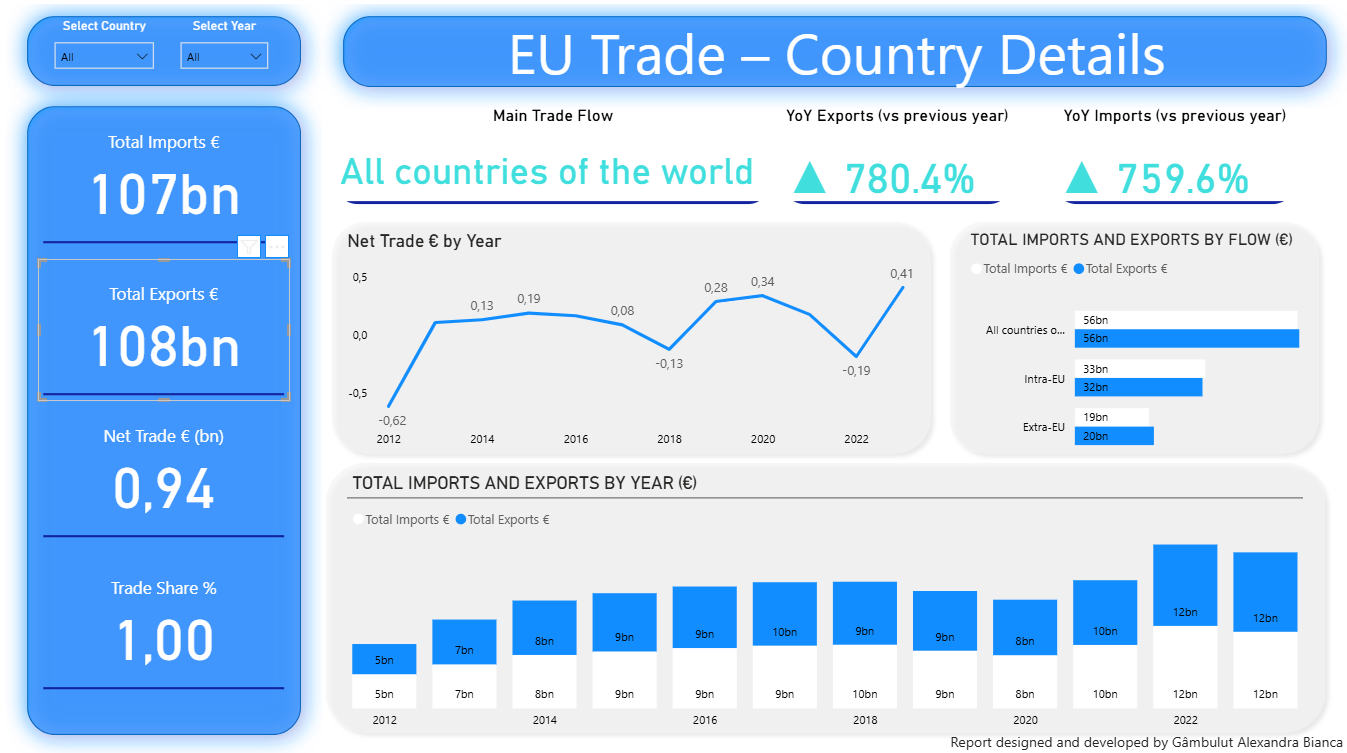

The dashboard page shown, as its layout file describes it:
{"tool":"powerbi","page":{"name":"Country Detail","canvas":[1280,720],"ordinal":1},"visuals":[{"type":"shape","box":[308.7,205.8,584.9,237.3],"z":0},{"type":"shape","box":[893.6,205.8,367.5,237.3],"z":1000},{"type":"shape","box":[302.7,433.5,964.3,273.5],"z":2000},{"type":"shape","box":[9.5,85.1,299.3,635.3],"z":3000},{"type":"shape","box":[9.5,0,299.3,106.1],"z":4000},{"type":"shape","box":[308.7,0,971.3,107.1],"z":5000},{"type":"slicer","title":"Select Country","fields":{"Values":["DimCountry.Country"]},"box":[45.2,22.1,114.5,64.1],"z":6000},{"type":"slicer","title":"Select Year","fields":{"Values":["DimYear.DimYear"]},"box":[164.9,22.1,102.9,64.1],"z":7000},{"type":"textbox","box":[350.7,11.6,891.5,81.9],"z":8000},{"type":"cardVisual","title":"YoY Imports % (vs previous year)","fields":{"Data":["Fact_ImportsExports.Total Imports €"]},"box":[39.9,106.1,238.4,134.4],"z":9000},{"type":"cardVisual","title":"YoY Imports % (vs previous year)","fields":{"Data":["Fact_ImportsExports.Total Exports €"]},"box":[39.9,249.9,238.4,134.4],"z":10000},{"type":"cardVisual","title":"YoY Imports (vs previous year)","fields":{"Data":["Fact_ImportsExports.YoY Imports % Display"]},"box":[989.1,104,253.1,99.8],"z":11000},{"type":"cardVisual","title":"YoY Exports (vs previous year)","fields":{"Data":["Fact_ImportsExports.YoY Exports % Display"]},"box":[731.9,104,242.6,99.8],"z":12000},{"type":"cardVisual","title":"YoY Imports % (vs previous year)","fields":{"Data":["Fact_ImportsExports.Net Trade € (bn)"]},"box":[39.9,384.3,238.4,134.4],"z":13000},{"type":"cardVisual","title":"YoY Imports % (vs previous year)","fields":{"Data":["Fact_ImportsExports.Trade Share %"]},"box":[39.9,528.2,238.4,134.4],"z":14000},{"type":"columnChart","title":"TOTAL IMPORTS AND EXPORTS BY YEAR (€)","fields":{"Y":["Fact_ImportsExports.Total Imports €","Fact_ImportsExports.Total Exports €"],"Category":["DimYear.DimYear"]},"box":[331.9,451.9,904.9,251.9],"z":15000},{"type":"clusteredBarChart","title":"TOTAL IMPORTS AND EXPORTS BY FLOW (€)","fields":{"Category":["Fact_ImportsExports.Flow"],"Y":["Fact_ImportsExports.Total Imports €","Fact_ImportsExports.Total Exports €"]},"box":[917.7,221.6,362.3,230],"z":16000},{"type":"lineChart","fields":{"Y":["Fact_ImportsExports.Net Trade € (bn)"],"Category":["DimYear.DimYear"]},"box":[327.6,222.6,548.1,216.3],"z":17000},{"type":"cardVisual","title":"Main Trade Flow","fields":{"Data":["Fact_ImportsExports.Main Trade Flow"]},"box":[308.7,104,437.9,99.8],"z":18000},{"type":"textbox","box":[843.2,693.4,436.8,26.6],"z":18001}]}

Visuals, with their boxes in screenshot pixels (x1, y1, x2, y2), scaled from the page's 1280x720 canvas onto the 1347x753 screenshot:
shape: (left=325, top=215, right=940, bottom=463)
shape: (left=940, top=215, right=1327, bottom=463)
shape: (left=319, top=453, right=1333, bottom=739)
shape: (left=10, top=89, right=325, bottom=752)
shape: (left=10, top=0, right=325, bottom=111)
shape: (left=325, top=0, right=1346, bottom=112)
"Select Country" slicer: (left=48, top=23, right=168, bottom=90)
"Select Year" slicer: (left=174, top=23, right=282, bottom=90)
textbox: (left=369, top=12, right=1307, bottom=98)
"YoY Imports % (vs previous year)" cardVisual: (left=42, top=111, right=293, bottom=252)
"YoY Imports % (vs previous year)" cardVisual: (left=42, top=261, right=293, bottom=402)
"YoY Imports (vs previous year)" cardVisual: (left=1041, top=109, right=1307, bottom=213)
"YoY Exports (vs previous year)" cardVisual: (left=770, top=109, right=1026, bottom=213)
"YoY Imports % (vs previous year)" cardVisual: (left=42, top=402, right=293, bottom=542)
"YoY Imports % (vs previous year)" cardVisual: (left=42, top=552, right=293, bottom=693)
"TOTAL IMPORTS AND EXPORTS BY YEAR (€)" columnChart: (left=349, top=473, right=1302, bottom=736)
"TOTAL IMPORTS AND EXPORTS BY FLOW (€)" clusteredBarChart: (left=966, top=232, right=1346, bottom=472)
lineChart - Fact_ImportsExports.Net Trade € (bn) x DimYear.DimYear: (left=345, top=233, right=922, bottom=459)
"Main Trade Flow" cardVisual: (left=325, top=109, right=786, bottom=213)
textbox: (left=887, top=725, right=1346, bottom=752)
